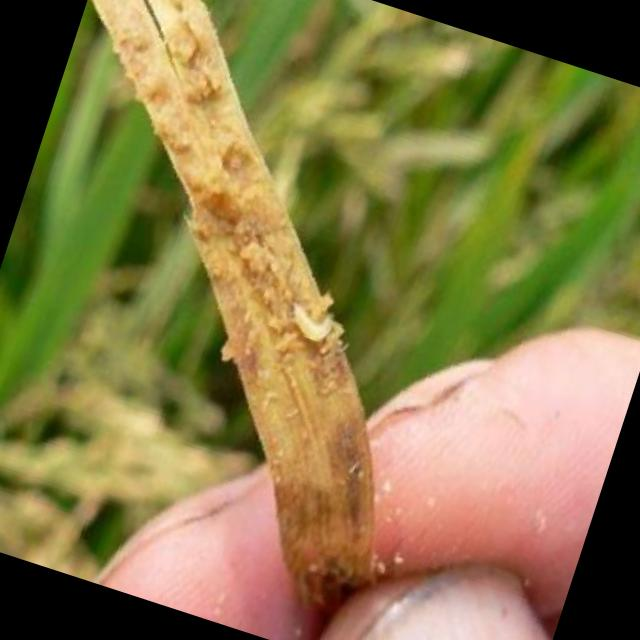whorl-maggot: (273, 296, 346, 352)
